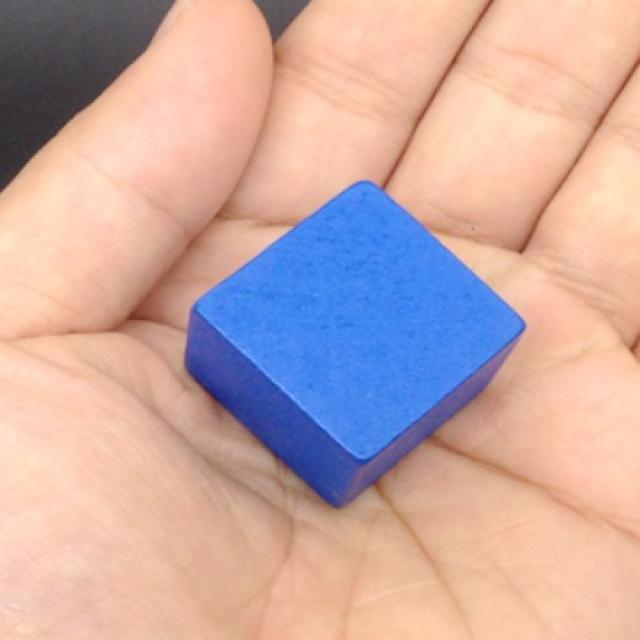bluecube: (184, 181, 527, 510)
